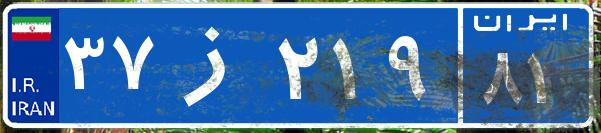1: (330, 28, 385, 110), (525, 38, 570, 115)
2: (273, 28, 330, 110)
3: (57, 26, 110, 107)
7: (110, 28, 158, 105)
8: (475, 38, 525, 113)
9: (385, 28, 445, 110)
ز: (158, 15, 273, 115)
